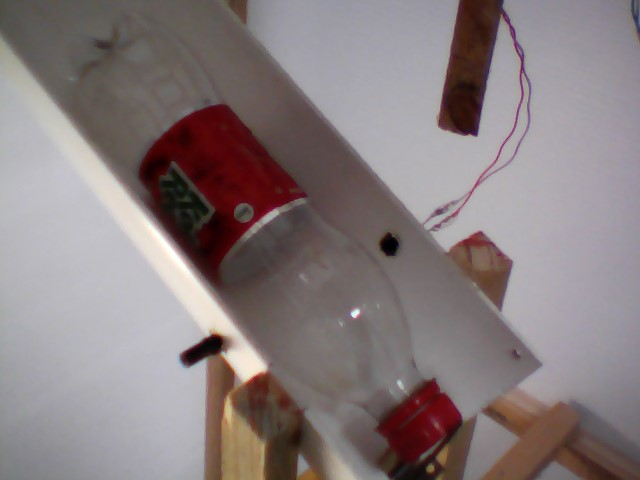plastico: (51, 19, 464, 471)
